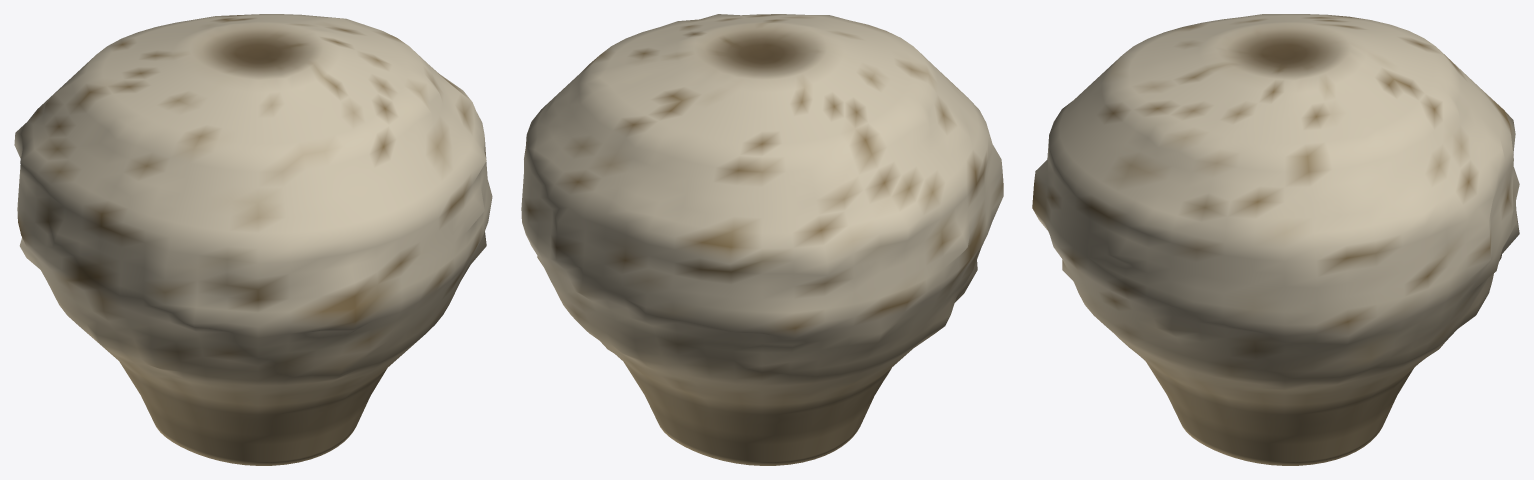
The model's file is Mushroom_Puffball.fbx.
3 renders of one model, left to right at view 1: azimuth 30°, elevation 25°; view 2: azimuth 150°, elevation 25°; view 3: azimuth 270°, elevation 25°, orthographic.
Visible parts, largest first — view 1: Mushroom_Puffball; view 2: Mushroom_Puffball; view 3: Mushroom_Puffball.
Boxes of the visible parts, bbox=[...] form: Mushroom_Puffball: bbox=[14, 14, 492, 465]; Mushroom_Puffball: bbox=[521, 14, 1003, 465]; Mushroom_Puffball: bbox=[1032, 14, 1519, 465].
Size of the model in its own units: 1.9 by 1.6 by 1.91.
